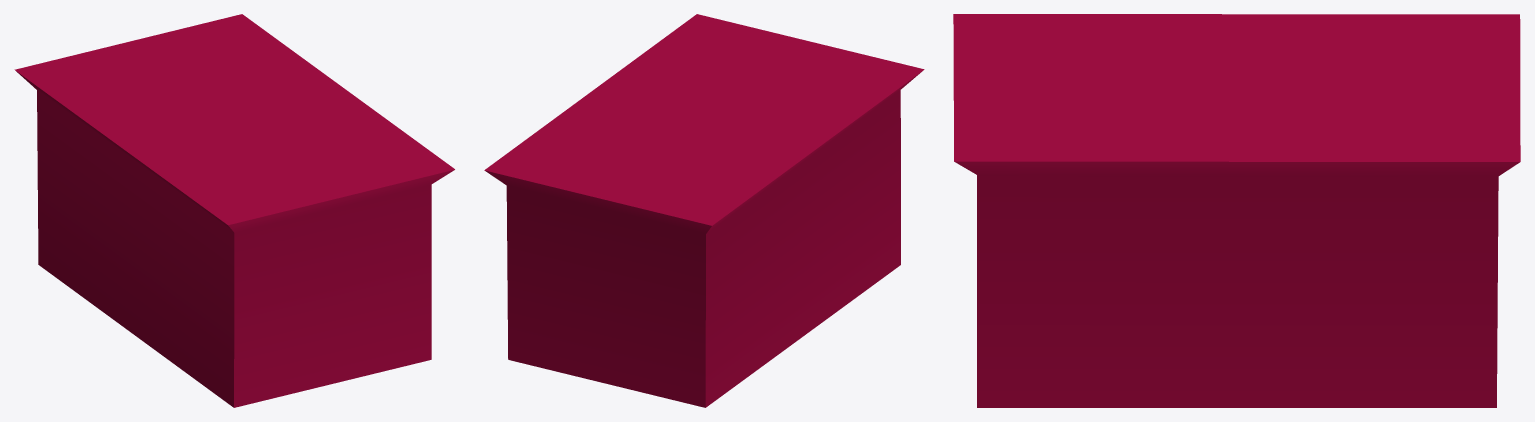
The model's file is Building6.fbx.
The picture shows the model from 3 angles, left to right: view 1: azimuth 30°, elevation 25°; view 2: azimuth 150°, elevation 25°; view 3: azimuth 270°, elevation 25°; orthographic projection. The views are drawn at different scales.
Visible parts, largest first — view 1: Building6; view 2: Building6; view 3: Building6.
Boxes of the visible parts, box(x1,y1,x2,y2) form: Building6: box(14, 14, 454, 407); Building6: box(484, 14, 924, 407); Building6: box(953, 14, 1520, 407).
Size of the model in its own units: 2662 by 2150 by 4312.
